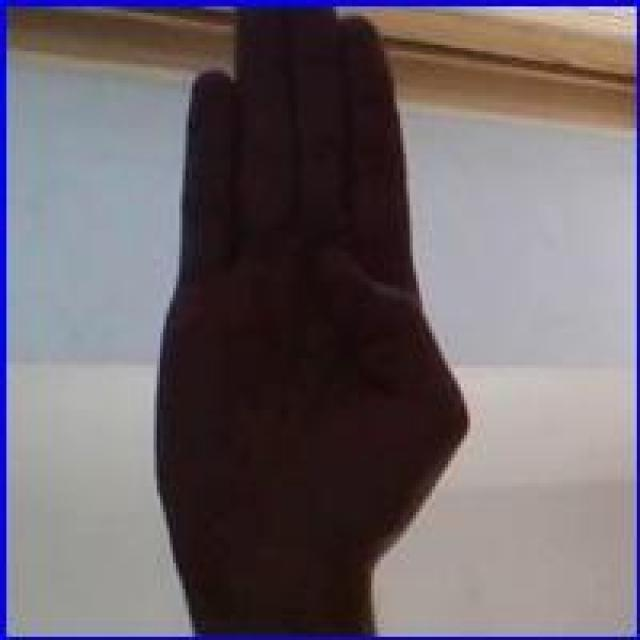B: (141, 8, 480, 581)
